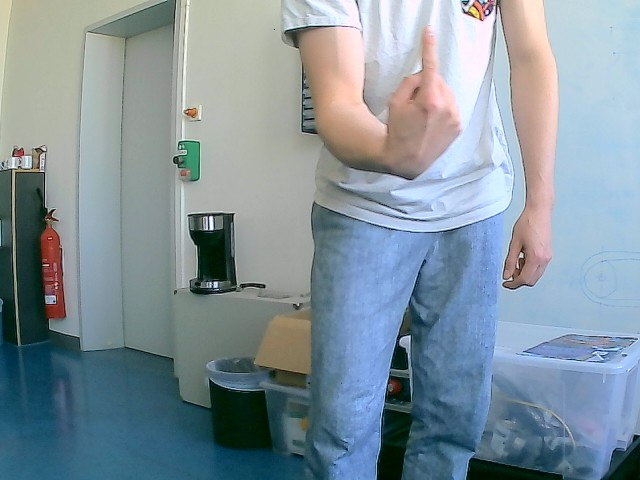no_gesture: (503, 201, 557, 291)
up: (383, 25, 463, 180)
